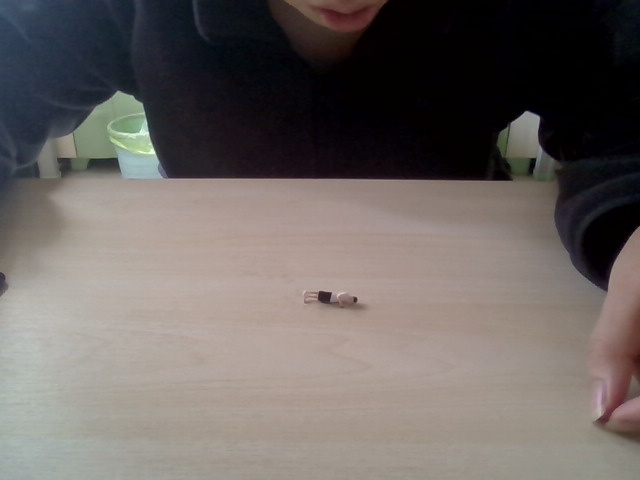fall: (298, 284, 361, 311)
